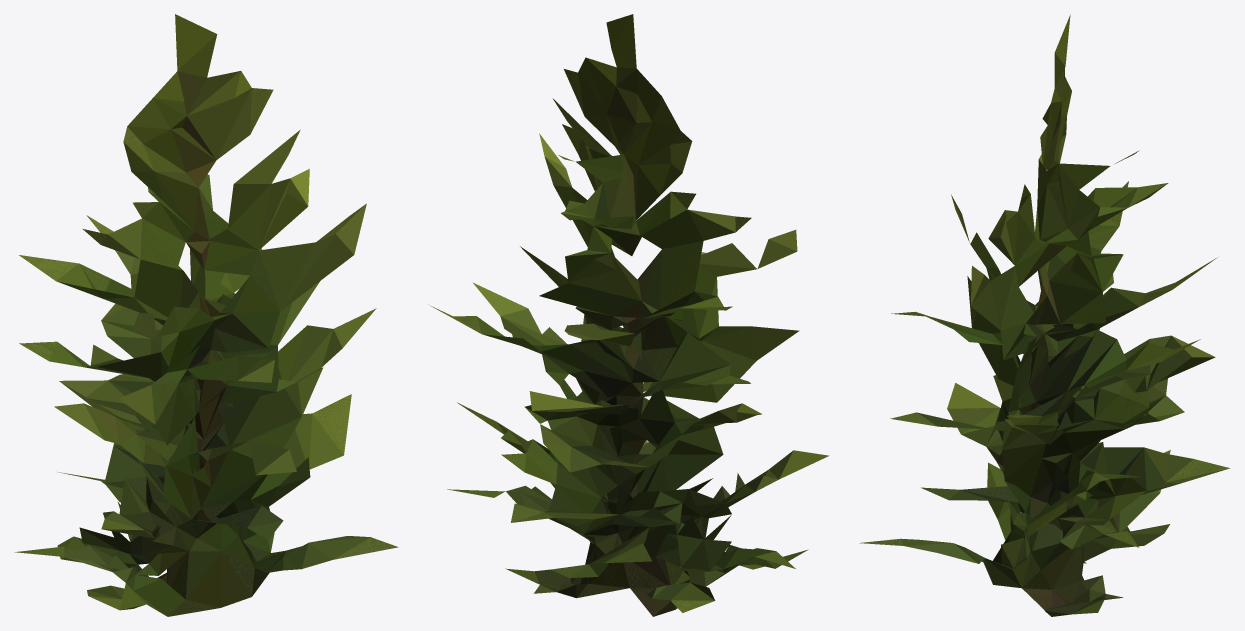
Rendered from mn_fern.glb.
3 views of the same model, side by side, from view 1: azimuth 30°, elevation 25°; view 2: azimuth 150°, elevation 25°; view 3: azimuth 270°, elevation 25° (orthographic). The views are drawn at different scales.
Visible parts, largest first — view 1: mn_fern; view 2: mn_fern; view 3: mn_fern.
Boxes of the visible parts, box(x1,y1,x2,y2) form: mn_fern: box(14, 14, 398, 616); mn_fern: box(429, 14, 829, 616); mn_fern: box(859, 14, 1229, 616).
Size of what is drawn, in the model's own units: 0.5967 by 0.9687 by 0.578.
